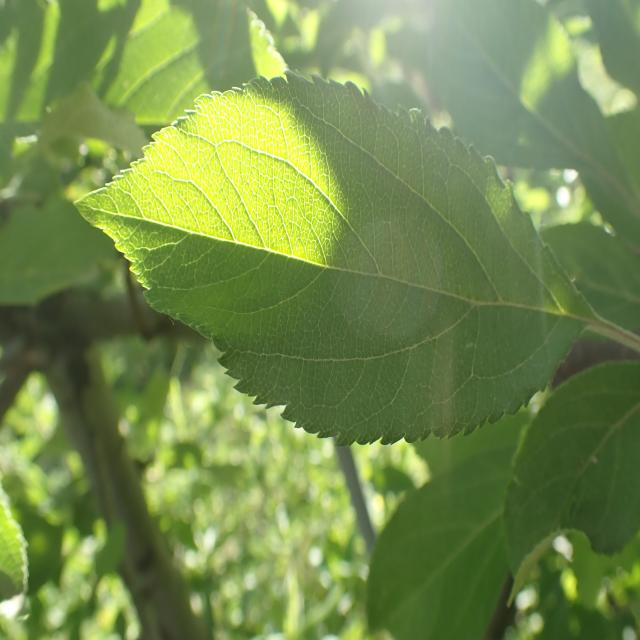healthy: (72, 70, 585, 448), (364, 407, 532, 640), (502, 358, 640, 607)
